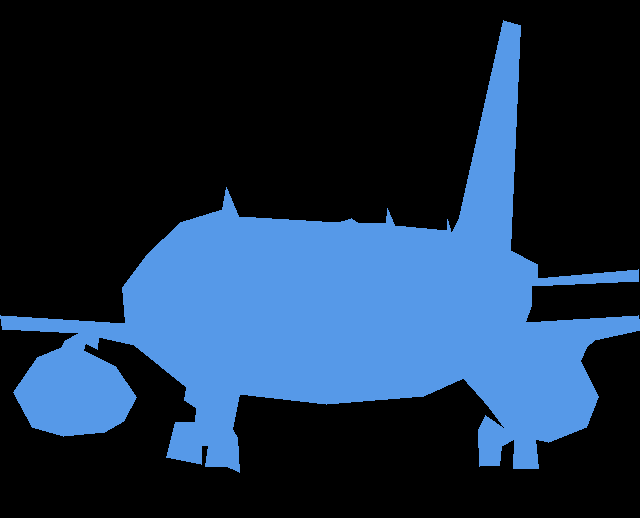Airplane: (0, 20, 640, 472)
